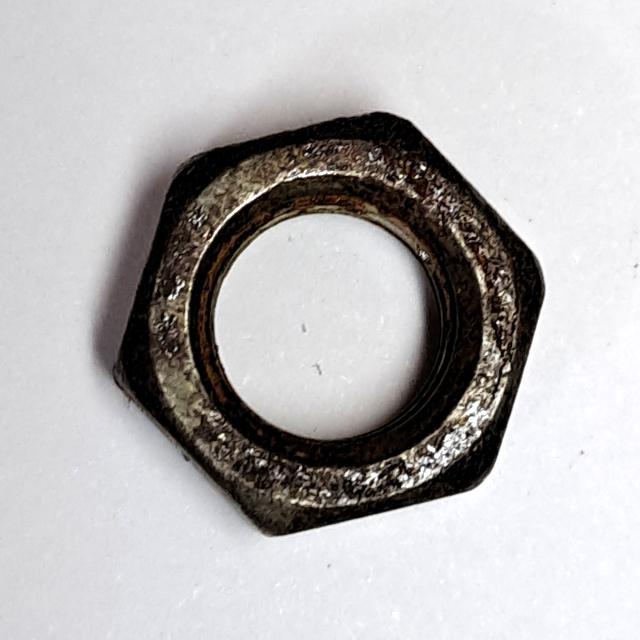Rust: (100, 102, 556, 550)
